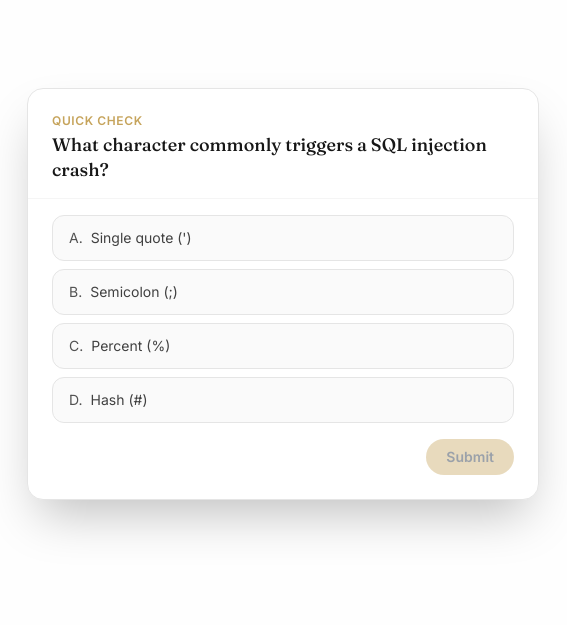
Scenario: QuizOverlay › always shows Continue after the last question, regardless of correctness
Click the radio button "Semicolon (;)" at (134, 292), box [52, 269, 514, 315]
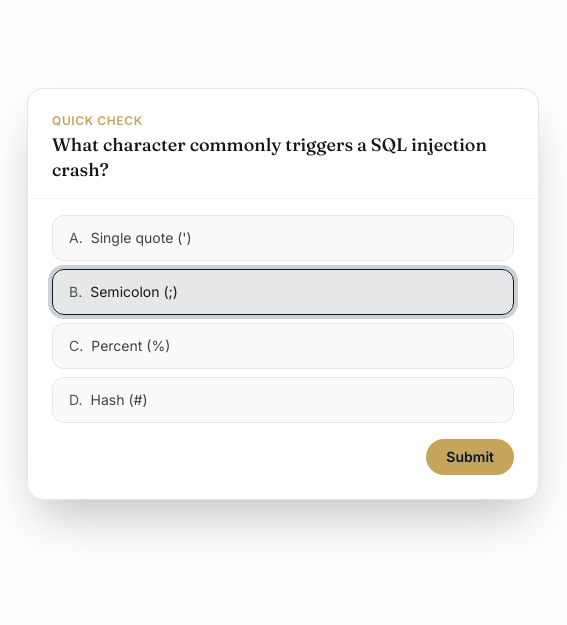
Click the button "Submit" at (470, 457), box [426, 439, 514, 475]
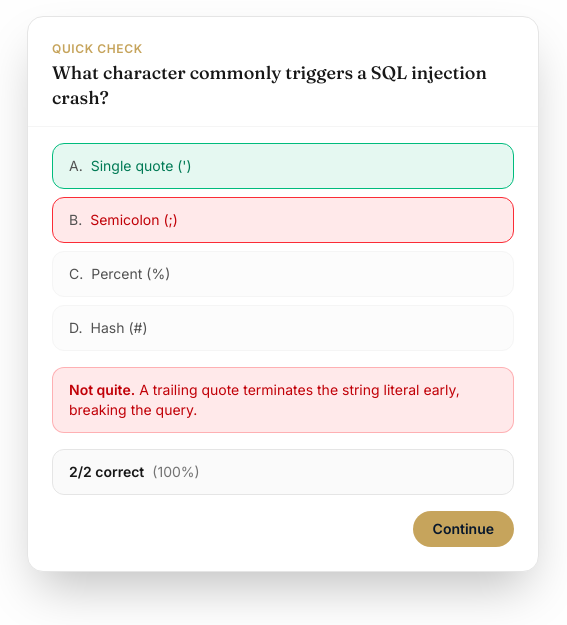
Expected: the button "Continue" is enabled, [413, 511, 514, 547]
Expected: the text "Not quite." is shown, [69, 381, 135, 398]
